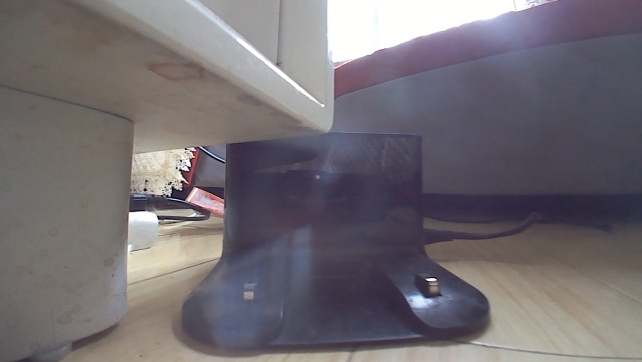charger: (175, 126, 495, 358)
sofa1: (327, 0, 640, 205)
wire: (423, 206, 620, 247), (150, 191, 210, 225), (196, 145, 225, 165)
